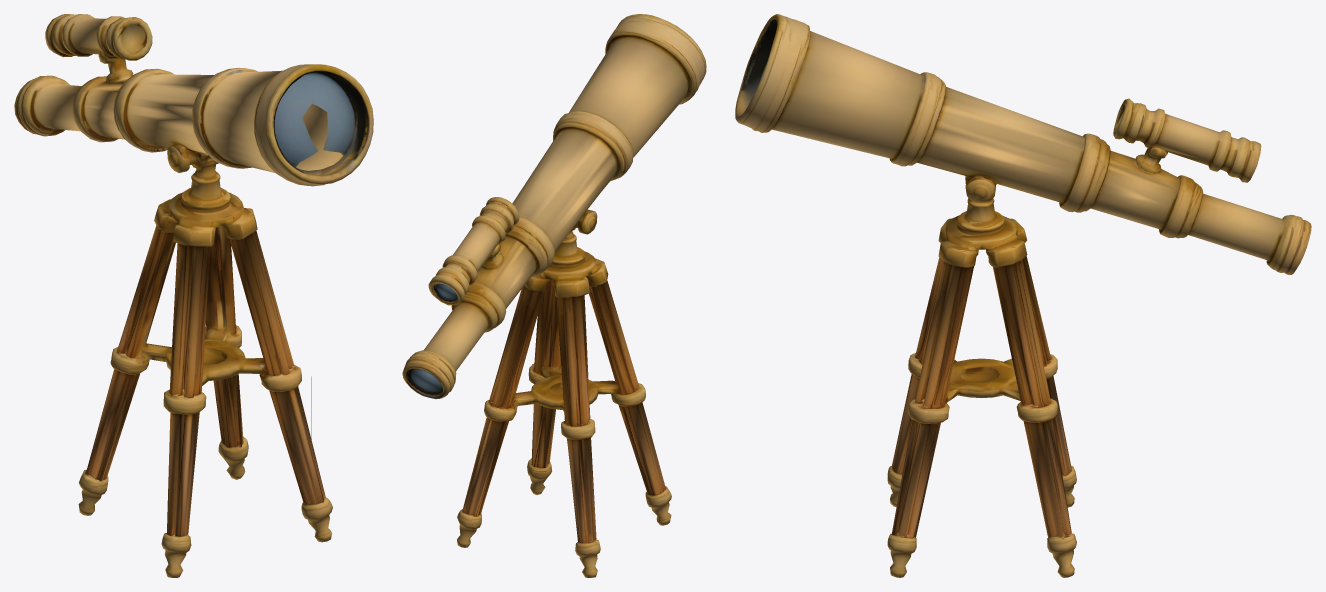
The model's file is Decor__a_brass_telescope_368f68ab_v3.cluster.glb.
3 renders of one model, left to right at view 1: azimuth 30°, elevation 25°; view 2: azimuth 150°, elevation 25°; view 3: azimuth 270°, elevation 25°, orthographic. The views are drawn at different scales.
Parts seen in each view (by area): view 1: material; view 2: material; view 3: material.
Part boxes in pixels (<box>): material: <box>14,14,373,577</box>; material: <box>402,14,706,577</box>; material: <box>735,14,1311,577</box>.
Size of the model in its own units: 0.6112 by 1.9 by 1.9.
Materials: 1 (1 with a texture image).
